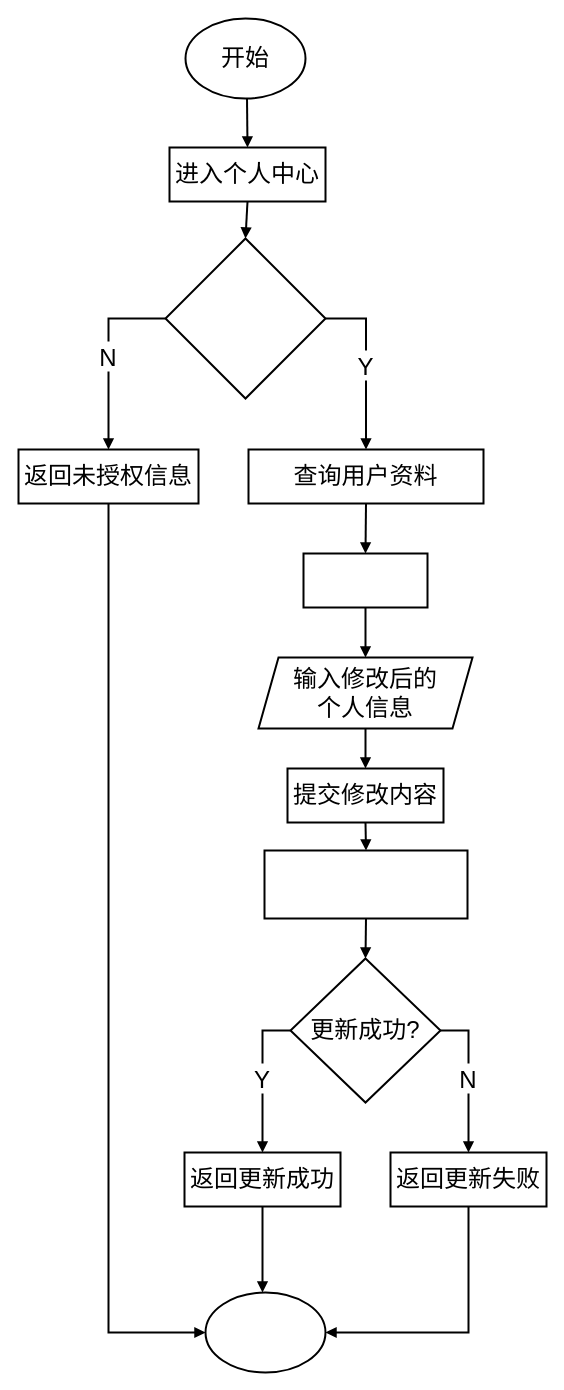
Some shapes in this 564 by 1390 pixel diagram are drawn without their labels. The centre of each missing label's shape, as x and y in pixels:
"展示资料" belongs at (365,580).
"更新用户信息" belongs at (365,884).
"登录有效?" belongs at (245,318).
"结束" belongs at (265,1332).
